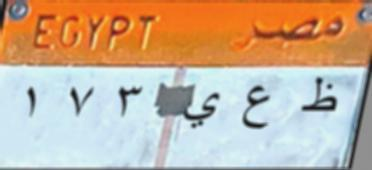1: (22, 77, 45, 126)
3: (111, 78, 148, 123)
7: (62, 84, 106, 125)
Thaa: (294, 73, 343, 123)
ain: (235, 80, 276, 142)
yaa: (180, 88, 227, 135)
